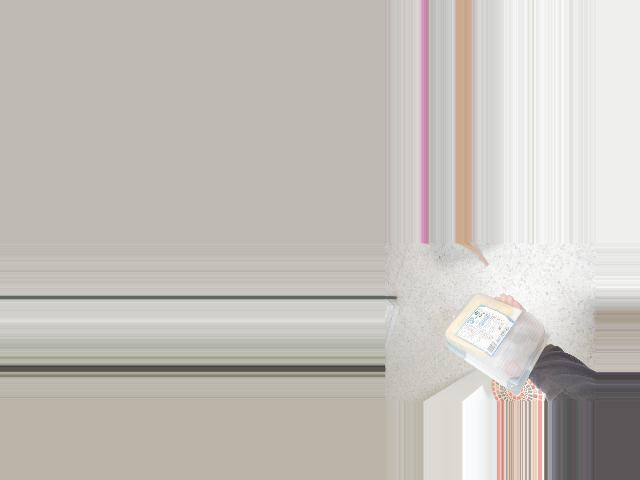cheese: (446, 294, 539, 379)
